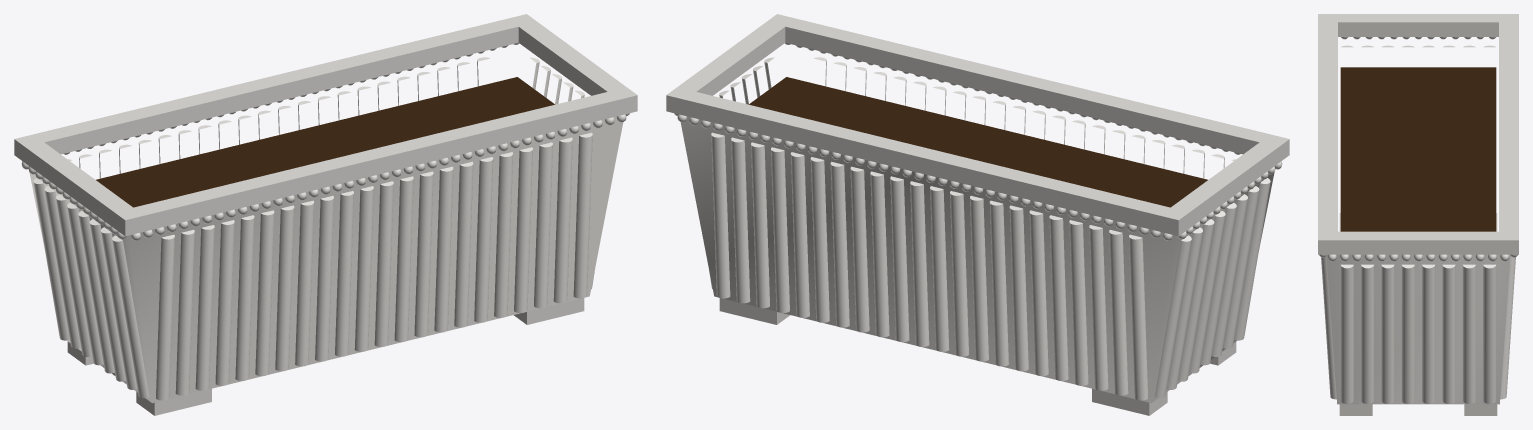
The picture shows the model from 3 angles, left to right: view 1: azimuth 30°, elevation 25°; view 2: azimuth 150°, elevation 25°; view 3: azimuth 270°, elevation 25°; orthographic projection. The views are drawn at different scales.
Parts seen in each view (by area): view 1: shell, soil, rim-top-f, rim-top-b, rim-f, rim-b, rim-top-l, rim-top-r, flute-0-13, flute-0-14, flute-0-5, flute-0-12 (+30 smaller); view 2: shell, soil, rim-top-b, rim-top-f, rim-b, rim-f, rim-top-l, rim-top-r, flute-1-7, flute-1-8, flute-1-0, flute-1-6 (+30 smaller); view 3: soil, shell, rim-top-f, rim-top-b, rim-top-r, rim-top-l, flute-2-2, flute-2-5, flute-2-0, flute-2-1, flute-2-3, flute-2-4 (+8 smaller).
Boxes of the visible parts, bbox=[...] form: shell: bbox=[29, 116, 623, 403]; soil: bbox=[96, 77, 554, 207]; rim-top-f: bbox=[114, 87, 637, 227]; rim-top-b: bbox=[14, 14, 536, 153]; rim-f: bbox=[114, 102, 637, 236]; rim-b: bbox=[14, 34, 518, 162]; rim-top-l: bbox=[25, 142, 132, 218]; rim-top-r: bbox=[518, 22, 626, 93]; flute-0-13: bbox=[414, 171, 433, 337]; flute-0-14: bbox=[434, 166, 453, 332]; flute-0-5: bbox=[255, 210, 274, 376]; flute-0-12: bbox=[394, 176, 413, 342]; shell: bbox=[680, 116, 1274, 403]; soil: bbox=[749, 77, 1207, 207]; rim-top-b: bbox=[666, 87, 1189, 227]; rim-top-f: bbox=[767, 14, 1289, 153]; rim-b: bbox=[666, 102, 1189, 236]; rim-f: bbox=[785, 34, 1289, 162]; rim-top-l: bbox=[1171, 142, 1278, 218]; rim-top-r: bbox=[677, 22, 785, 93]; flute-1-7: bbox=[850, 166, 869, 332]; flute-1-8: bbox=[870, 171, 889, 337]; flute-1-0: bbox=[711, 132, 730, 298]; flute-1-6: bbox=[830, 161, 849, 327]; soil: bbox=[1340, 67, 1496, 231]; shell: bbox=[1326, 254, 1510, 404]; rim-top-f: bbox=[1318, 14, 1337, 246]; rim-top-b: bbox=[1499, 14, 1518, 246]; rim-top-r: bbox=[1338, 231, 1498, 246]; rim-top-l: bbox=[1338, 14, 1498, 28]; flute-2-2: bbox=[1381, 264, 1394, 403]; flute-2-5: bbox=[1442, 264, 1455, 403]; flute-2-0: bbox=[1340, 264, 1353, 403]; flute-2-1: bbox=[1361, 264, 1374, 403]; flute-2-3: bbox=[1401, 264, 1414, 403]; flute-2-4: bbox=[1422, 264, 1435, 403].
Size of the model in its own units: 0.8 by 0.32 by 0.3.
